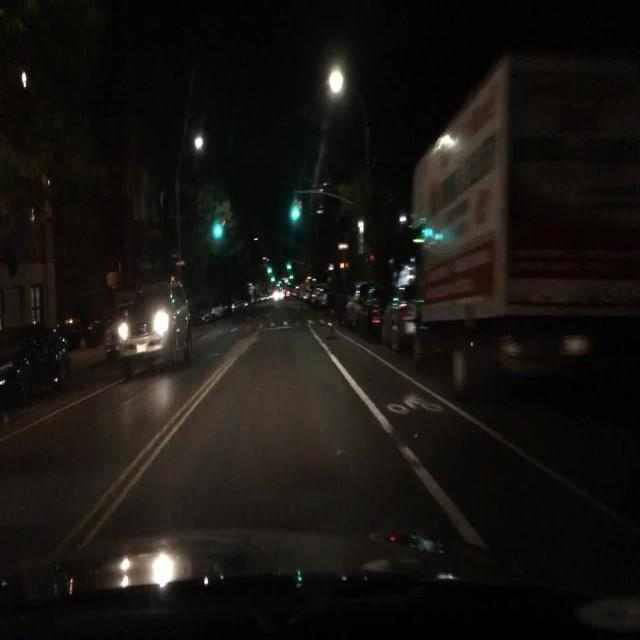normal: (106, 285, 192, 376), (0, 322, 67, 402)
